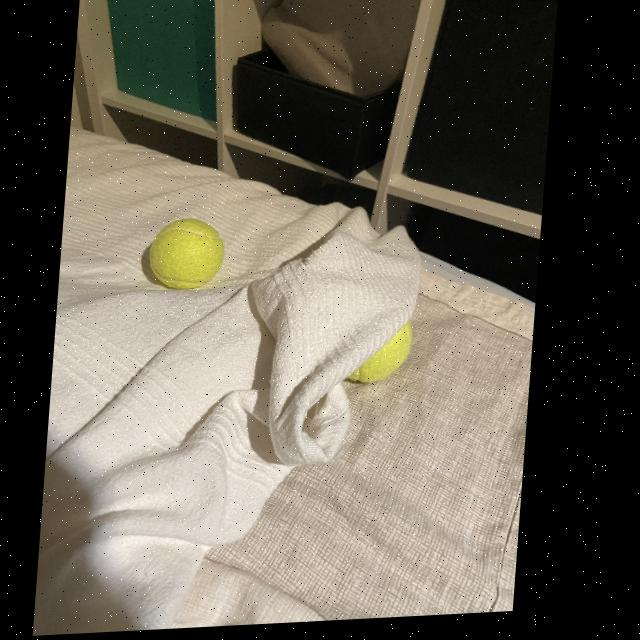Tennisball: (149, 219, 224, 289), (347, 322, 412, 383)
